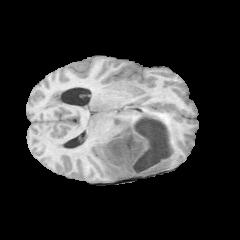glioma: (47, 92, 177, 179)
